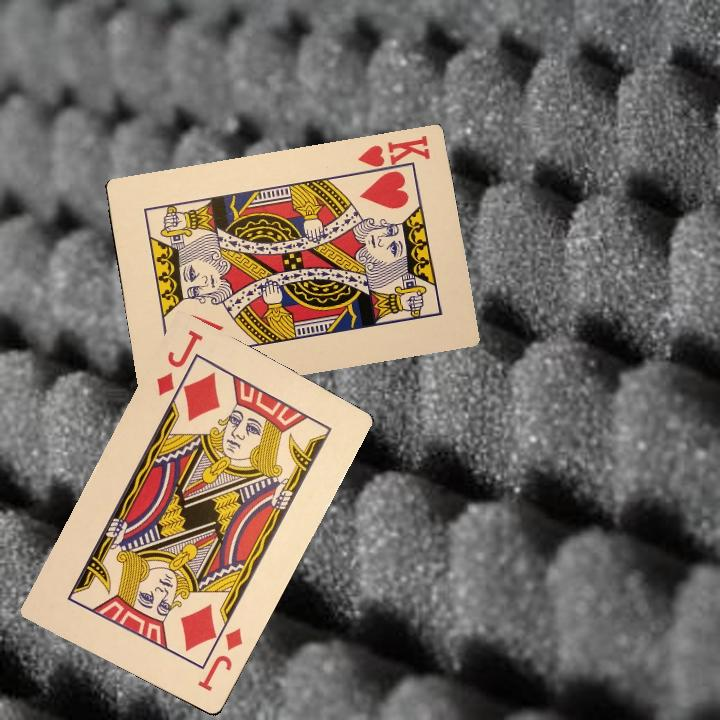Jd: (152, 326, 206, 409), (193, 624, 246, 694)
Kh: (354, 131, 433, 177)
